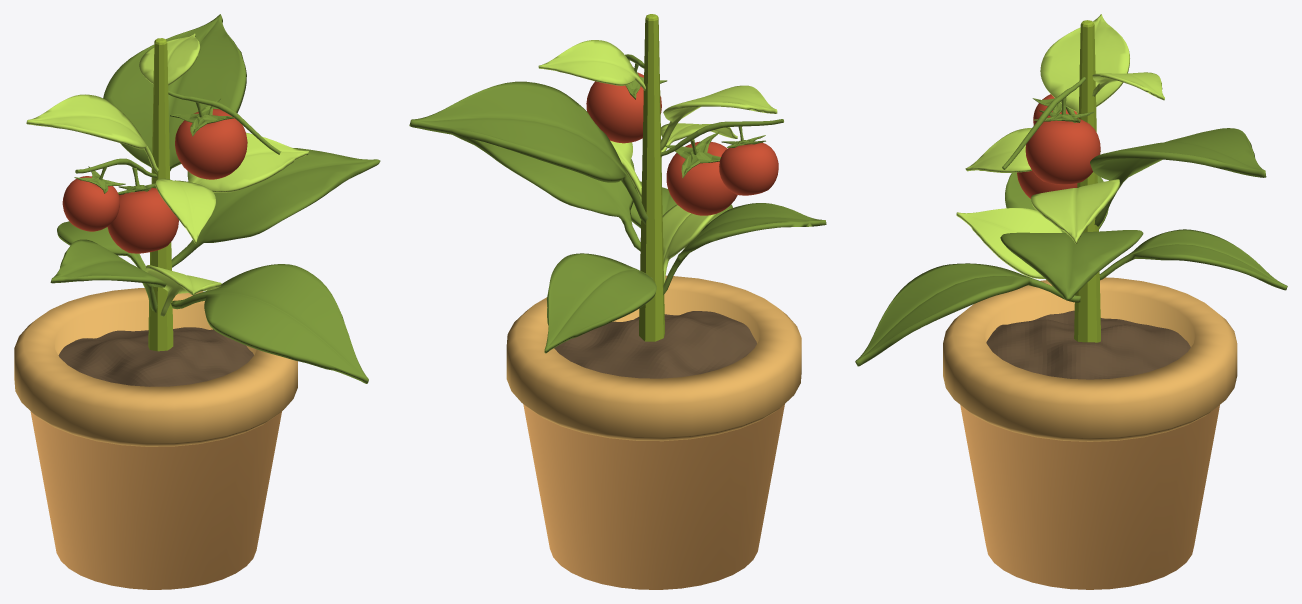
Rendered from FruitPlant.fbx.
3 views of the same model, side by side, from view 1: azimuth 30°, elevation 25°; view 2: azimuth 150°, elevation 25°; view 3: azimuth 270°, elevation 25° (orthographic). The views are drawn at different scales.
Visible parts, largest first — view 1: Pot_Cylinder, leaf.008_Circle.003, Soil_Circle.001, leaf.001_Circle.005, leaf_Circle.016, Whole.002_Circle.017, MainBranch_Circle.002, Whole_Circle.014, Leaf_Circle.006, leaf.007_Circle.004, leaf.005_Circle.007, Whole.001_Circle.015 (+5 smaller); view 2: Pot_Cylinder, leaf.001_Circle.005, Soil_Circle.001, leaf.006_Circle.009, MainBranch_Circle.002, leaf_Circle.016, Whole_Circle.014, leaf.007_Circle.004, Whole.002_Circle.017, Whole.001_Circle.015, leaf.003_Circle.011, Leaf_Circle.006 (+4 smaller); view 3: Pot_Cylinder, Soil_Circle.001, leaf.008_Circle.003, leaf_Circle.016, leaf.001_Circle.005, Whole.002_Circle.017, Leaf_Circle.006, leaf.006_Circle.009, MainBranch_Circle.002, leaf.005_Circle.007, leaf.004_Circle.008, leaf.002_Circle.010 (+4 smaller).
Boxes of the visible parts, box(x1,y1,x2,y2) form: Pot_Cylinder: box(14, 288, 297, 589); leaf.008_Circle.003: box(171, 264, 368, 383); Soil_Circle.001: box(58, 327, 253, 386); leaf.001_Circle.005: box(103, 14, 246, 170); leaf_Circle.016: box(171, 148, 380, 267); Whole.002_Circle.017: box(170, 98, 247, 179); MainBranch_Circle.002: box(148, 38, 173, 351); Whole_Circle.014: box(107, 167, 178, 253); Leaf_Circle.006: box(26, 94, 158, 173); leaf.007_Circle.004: box(50, 239, 166, 312); leaf.005_Circle.007: box(187, 132, 308, 192); Whole.001_Circle.015: box(62, 166, 125, 231); Pot_Cylinder: box(506, 275, 801, 589); leaf.001_Circle.005: box(409, 81, 648, 224); Soil_Circle.001: box(554, 311, 756, 378); leaf.006_Circle.009: box(544, 253, 656, 353); MainBranch_Circle.002: box(639, 14, 664, 341); leaf_Circle.016: box(453, 135, 640, 251); Whole_Circle.014: box(665, 132, 737, 215); leaf.007_Circle.004: box(663, 203, 826, 294); Whole.002_Circle.017: box(586, 63, 667, 143); Whole.001_Circle.015: box(719, 126, 778, 195); leaf.003_Circle.011: box(538, 40, 645, 90); Leaf_Circle.006: box(660, 85, 777, 150); Pot_Cylinder: box(943, 277, 1237, 589); Soil_Circle.001: box(986, 310, 1190, 379); leaf.008_Circle.003: box(855, 263, 1080, 366); leaf_Circle.016: box(1000, 230, 1143, 300); leaf.001_Circle.005: box(1090, 128, 1266, 226); Whole.002_Circle.017: box(1025, 97, 1100, 184); Leaf_Circle.006: box(1040, 14, 1129, 113); leaf.006_Circle.009: box(1099, 229, 1287, 290); MainBranch_Circle.002: box(1074, 20, 1100, 342); leaf.005_Circle.007: box(1031, 179, 1120, 243); leaf.004_Circle.008: box(956, 208, 1062, 278); leaf.002_Circle.010: box(965, 128, 1031, 172).
Size of the model in its own units: 298 by 414 by 309.
